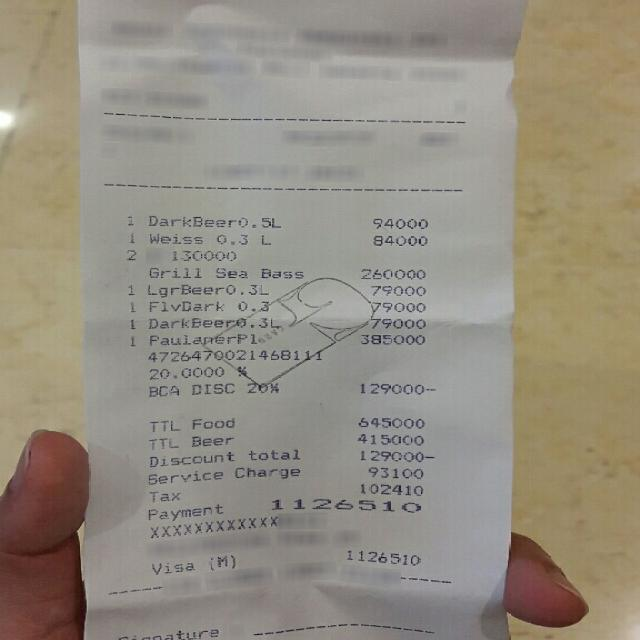kertas: (79, 0, 525, 640)
